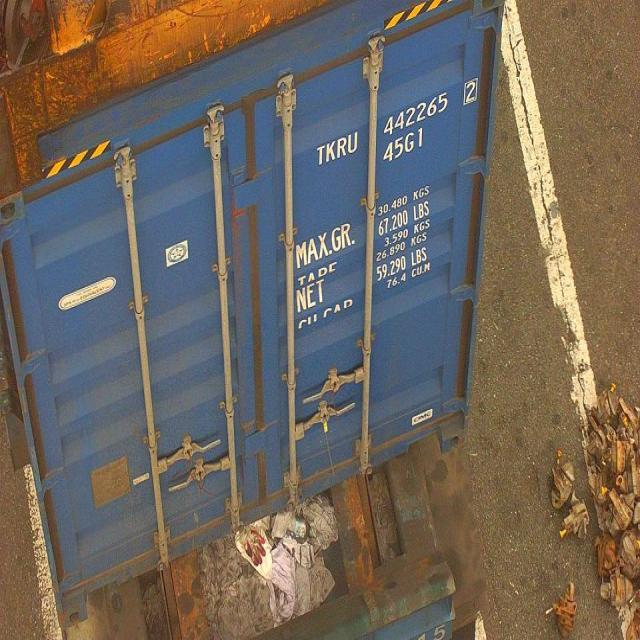ISO: (386, 124, 424, 169)
container_number: (317, 66, 478, 163)
